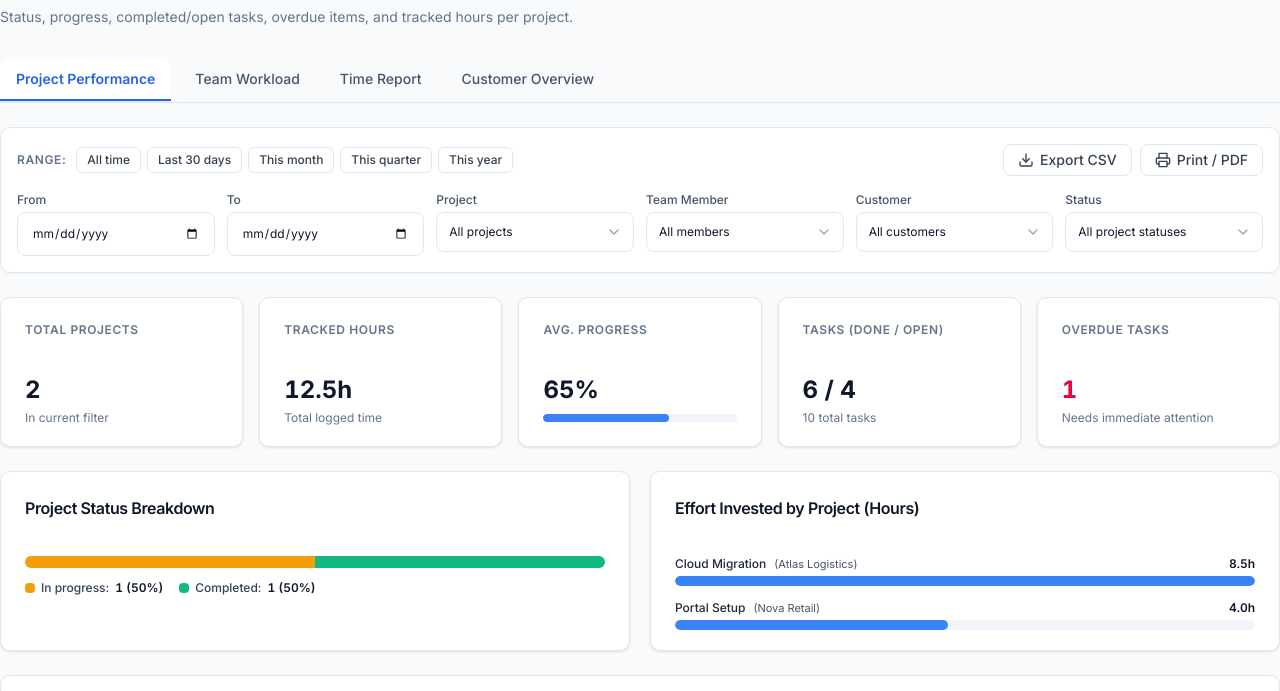
Test case: ReportsPage › switches tabs to Time Report and displays time summary and detailed logs
Click the button "Time Report": (381, 80) [324,59,438,101]
(page scrolled)
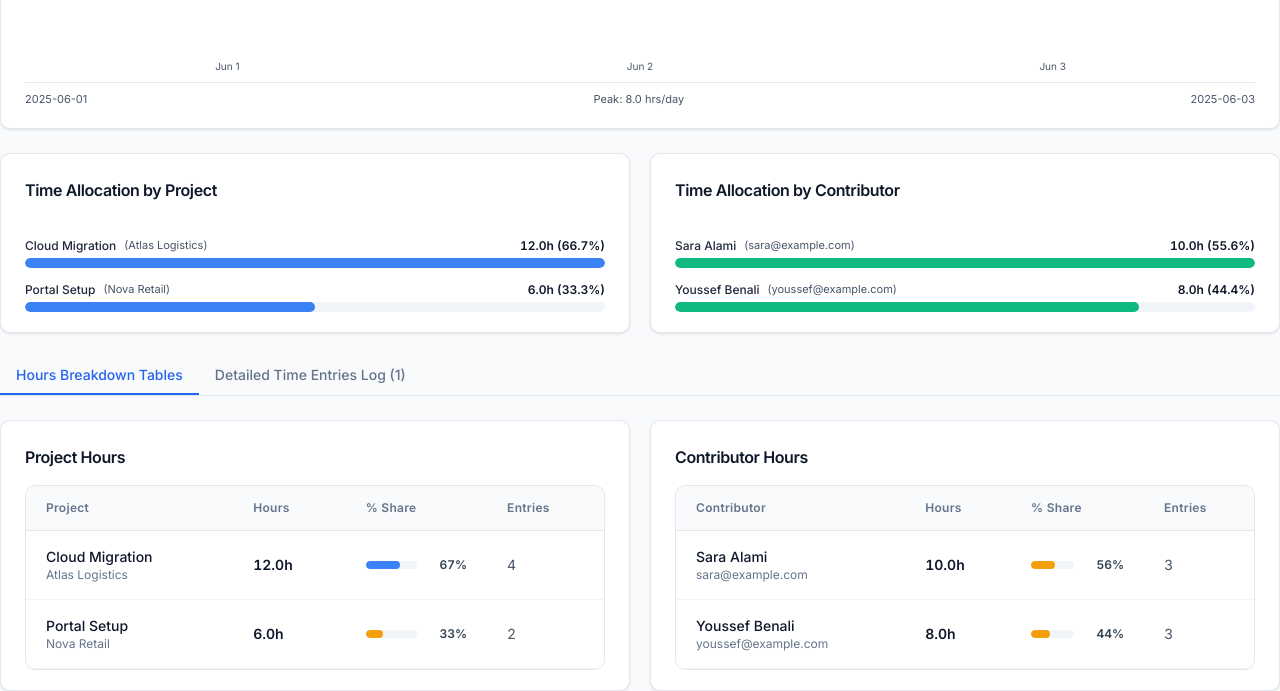
Expected: the button "Hours Breakdown Tables" is shown, [0,356,199,394]
Expected: the button "Detailed Time Entries Log (1)" is shown
Click the button "Detailed Time Entries Log (1)": (310, 376) [199,356,422,394]
(page scrolled)
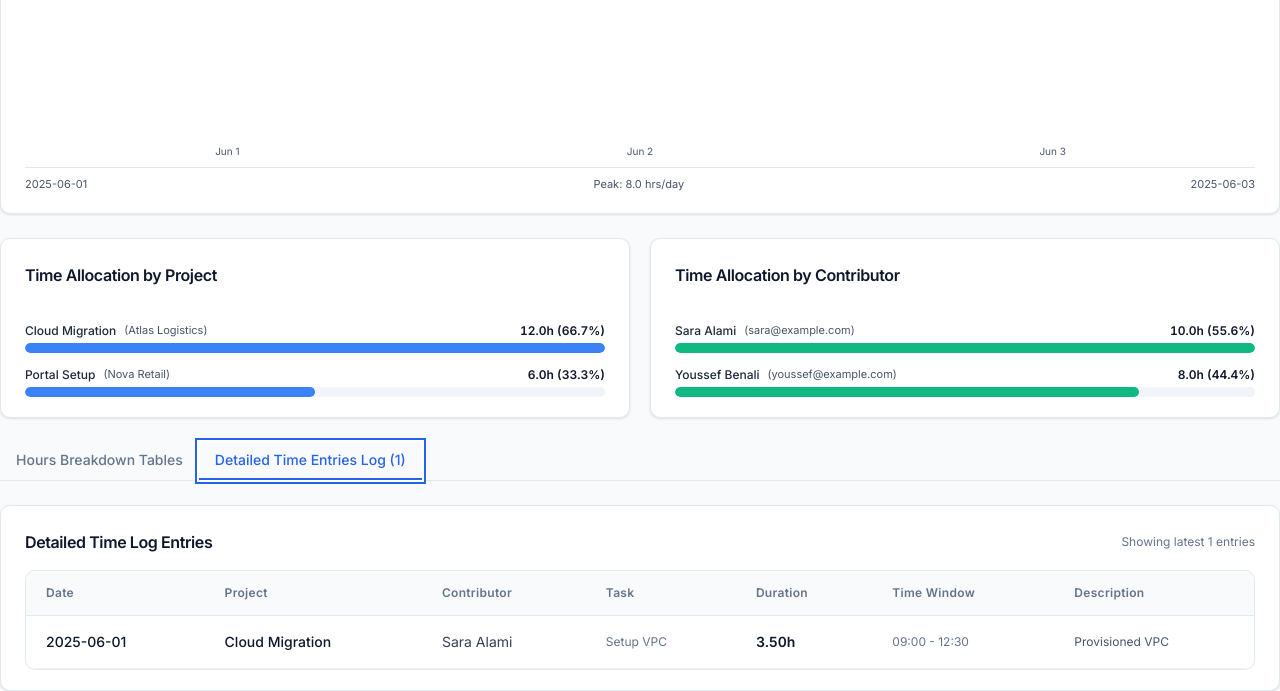
Expected: the text "Provisioned VPC" is shown, [1054,615,1254,668]
